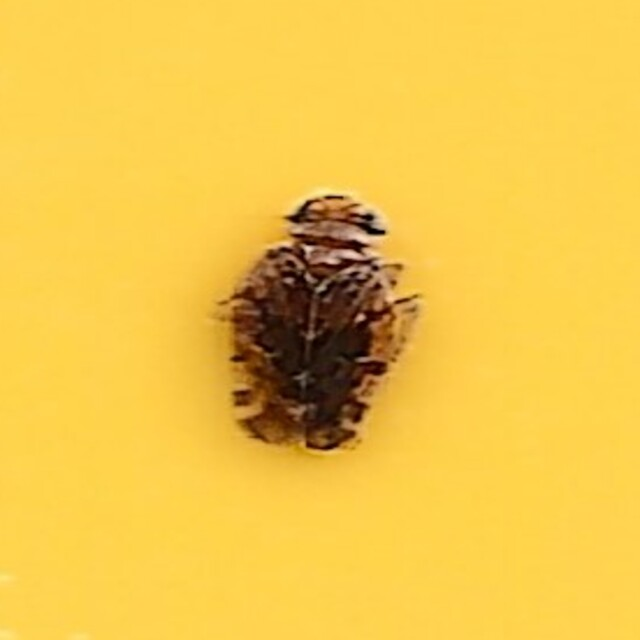Hemiptera: (232, 189, 408, 451)
